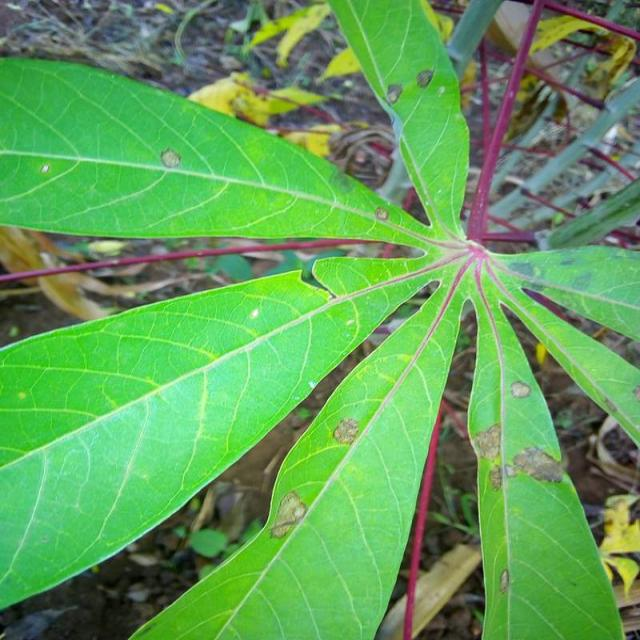cassava leaf: (0, 0, 638, 638), (0, 259, 439, 612), (0, 54, 442, 248), (466, 258, 626, 638)
